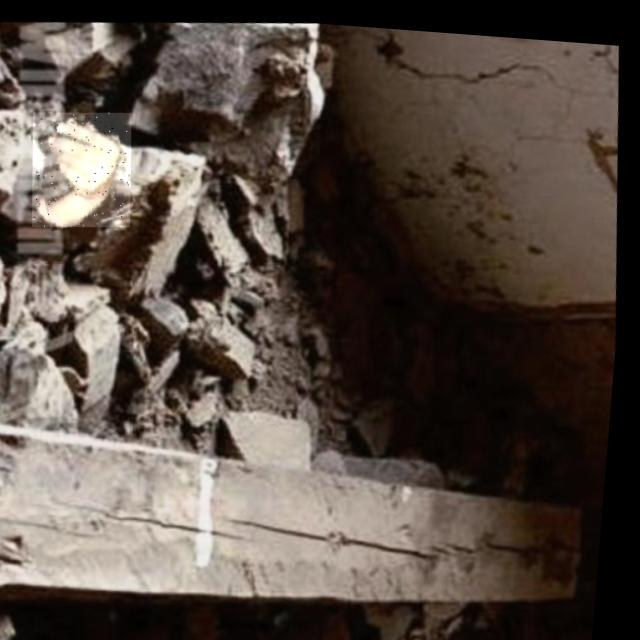Person in Rubble: (26, 104, 140, 232)
